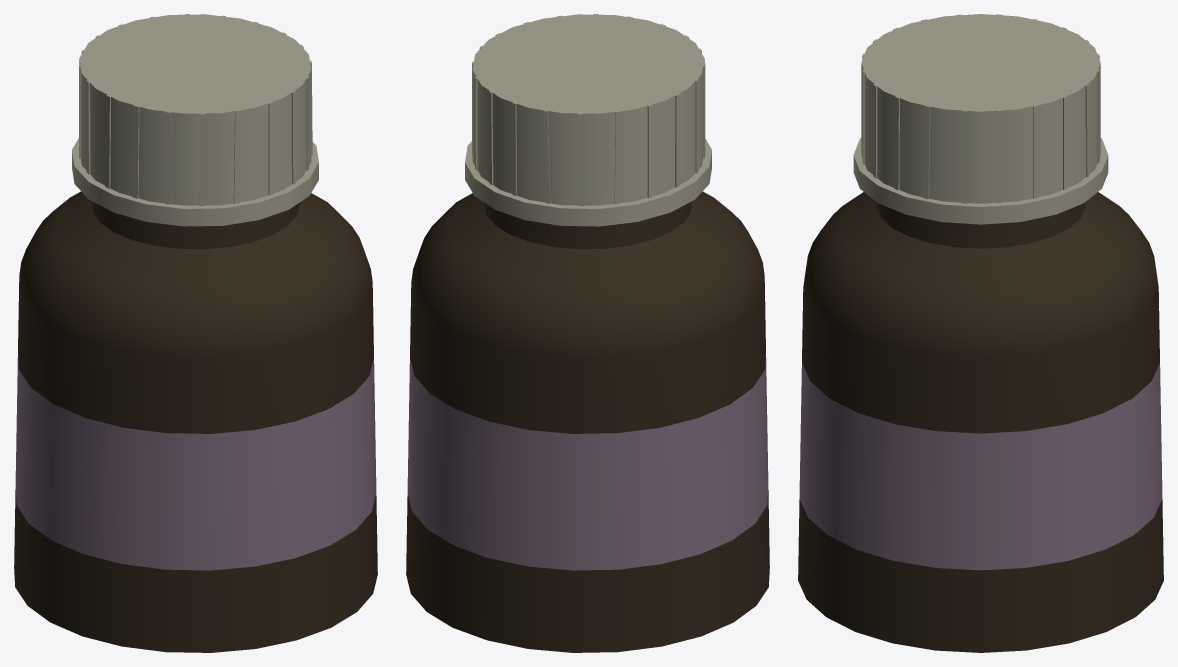
Rendered from ban2.fbx.
The picture shows the model from 3 angles, left to right: view 1: azimuth 30°, elevation 25°; view 2: azimuth 150°, elevation 25°; view 3: azimuth 270°, elevation 25°; orthographic projection.
Parts seen in each view (by area): view 1: pCylinder1, pCylinder2; view 2: pCylinder1, pCylinder2; view 3: pCylinder1, pCylinder2.
Boxes of the visible parts, x1,y1,x2,y2 form: pCylinder1: (14,191,377,652); pCylinder2: (72,14,318,226); pCylinder1: (406,191,769,652); pCylinder2: (465,14,711,226); pCylinder1: (798,192,1163,652); pCylinder2: (853,14,1108,224).
Bounding box in the file's own units: 4.66 × 7.26 × 4.69.
